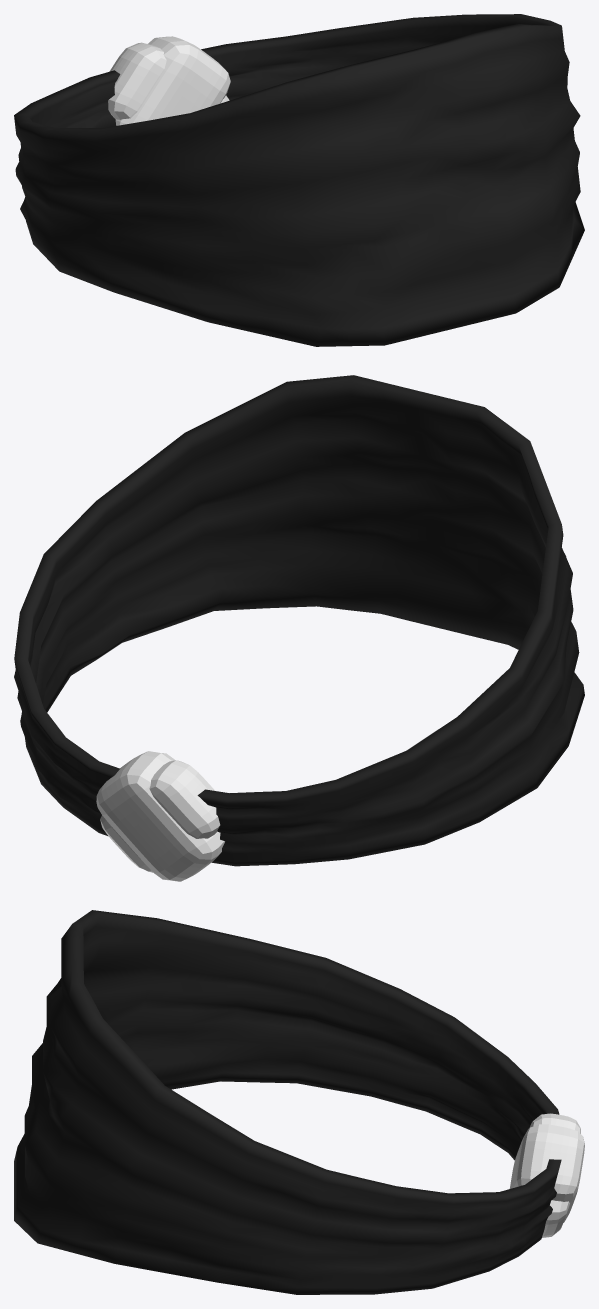
The model's file is blindfold.fbx.
The picture shows the model from 3 angles, top to bottom: view 1: azimuth 30°, elevation 25°; view 2: azimuth 150°, elevation 25°; view 3: azimuth 270°, elevation 25°; orthographic projection. The views are drawn at different scales.
Parts seen in each view (by area): view 1: Plane; view 2: Plane; view 3: Plane.
Boxes of the visible parts, box(x1,y1,x2,y2) form: Plane: box(14, 14, 584, 346); Plane: box(14, 375, 584, 881); Plane: box(14, 910, 584, 1294).
Bounding box in the file's own units: 253 × 148 × 277.
